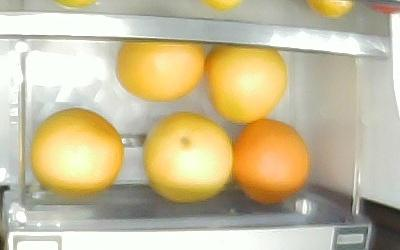grapefruit: (29, 106, 124, 196), (141, 110, 233, 202), (230, 116, 309, 204), (203, 42, 287, 124), (114, 39, 205, 100)
